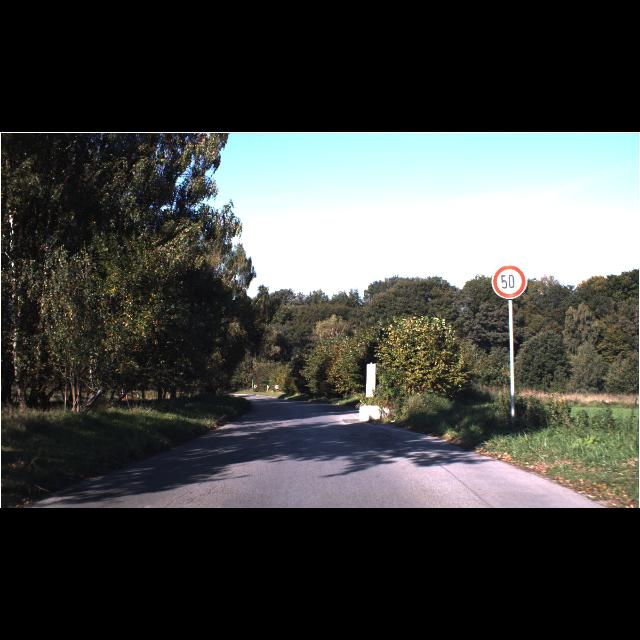prohibitory: (491, 264, 527, 300)
